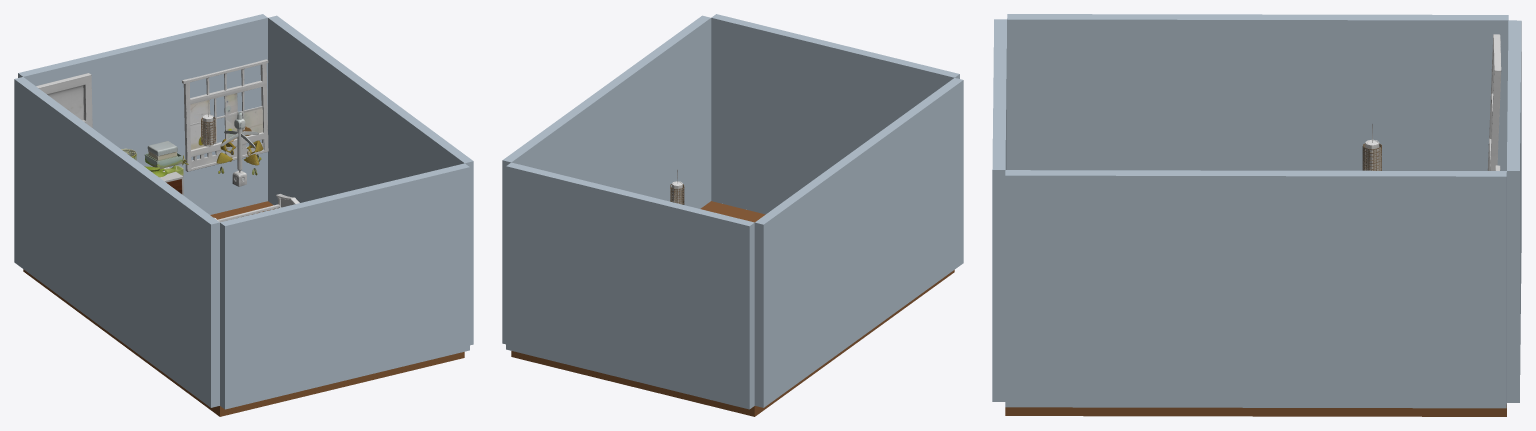
Rendered from stage2.glb.
3 views of the same model, side by side, from view 1: azimuth 30°, elevation 25°; view 2: azimuth 150°, elevation 25°; view 3: azimuth 270°, elevation 25° (orthographic). The views are drawn at different scales.
Parts seen in each view (by area): view 1: Wall_01, geometry_0.007, Floor, geometry_0.010, geometry_0.009, geometry_0.011, geometry_0.004, geometry_0.003; view 2: Wall_01, Floor; view 3: Wall_01, Floor, geometry_0.010, geometry_0.003.
Part boxes in pixels (x1=…): Wall_01: x1=14, y1=14, x2=473, y2=409; geometry_0.007: x1=182, y1=59, x2=268, y2=171; Floor: x1=23, y1=201, x2=464, y2=416; geometry_0.010: x1=36, y1=73, x2=92, y2=127; geometry_0.009: x1=216, y1=112, x2=263, y2=186; geometry_0.011: x1=144, y1=141, x2=182, y2=168; geometry_0.004: x1=214, y1=193, x2=299, y2=222; geometry_0.003: x1=201, y1=102, x2=215, y2=146; Wall_01: x1=502, y1=14, x2=963, y2=409; Floor: x1=511, y1=201, x2=954, y2=416; Wall_01: x1=992, y1=14, x2=1521, y2=408; Floor: x1=1005, y1=404, x2=1506, y2=416; geometry_0.010: x1=1487, y1=34, x2=1501, y2=170; geometry_0.003: x1=1362, y1=124, x2=1381, y2=170.
Size of the model in its own units: 7.4 by 5.22 by 10.17.
14 materials, 12 textured.
